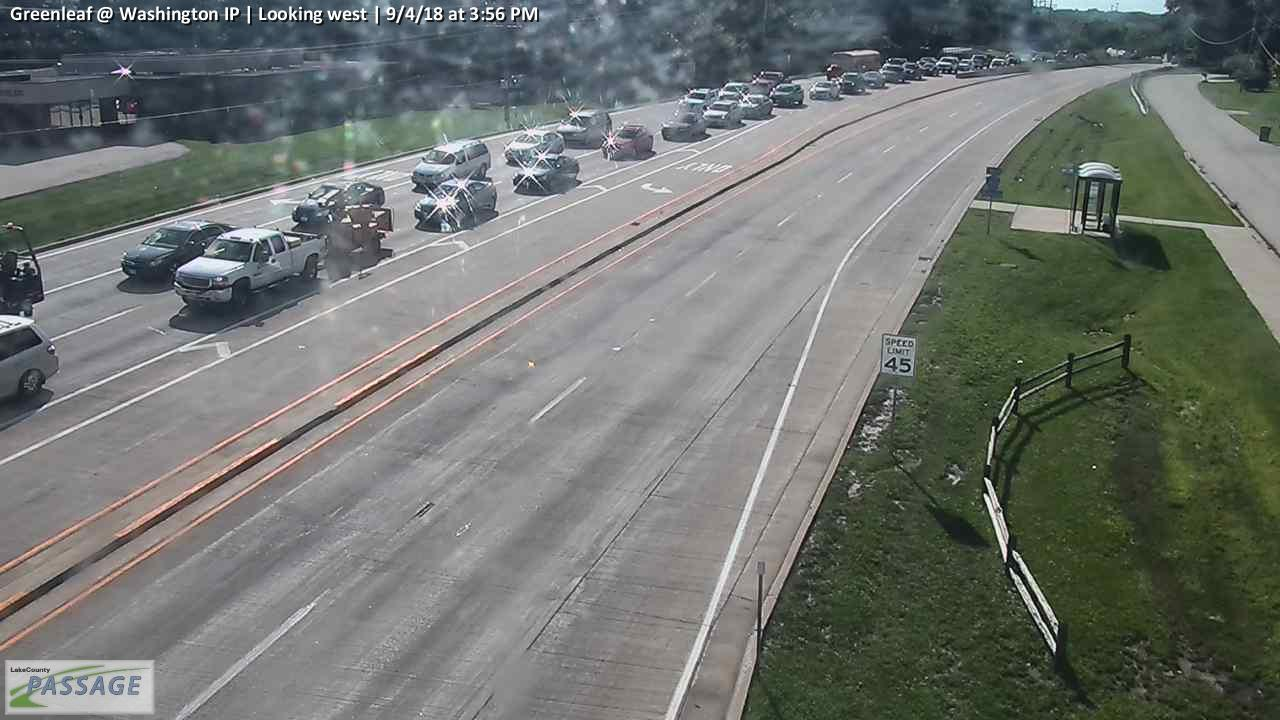SUV: (410, 137, 492, 189), (552, 109, 613, 149)
Sedan: (120, 218, 241, 281), (413, 178, 497, 233), (292, 179, 386, 228), (513, 152, 579, 196), (504, 130, 566, 162), (603, 124, 654, 159), (661, 111, 705, 140), (702, 99, 741, 129), (749, 71, 790, 94), (770, 82, 804, 106), (742, 94, 773, 118), (683, 87, 718, 107), (719, 82, 750, 101), (809, 81, 840, 99), (839, 71, 864, 91), (863, 69, 885, 87), (884, 64, 905, 82), (937, 56, 958, 72), (904, 61, 922, 79), (922, 62, 939, 76)
Truck: (171, 225, 328, 313), (325, 205, 395, 262), (826, 47, 882, 81)
